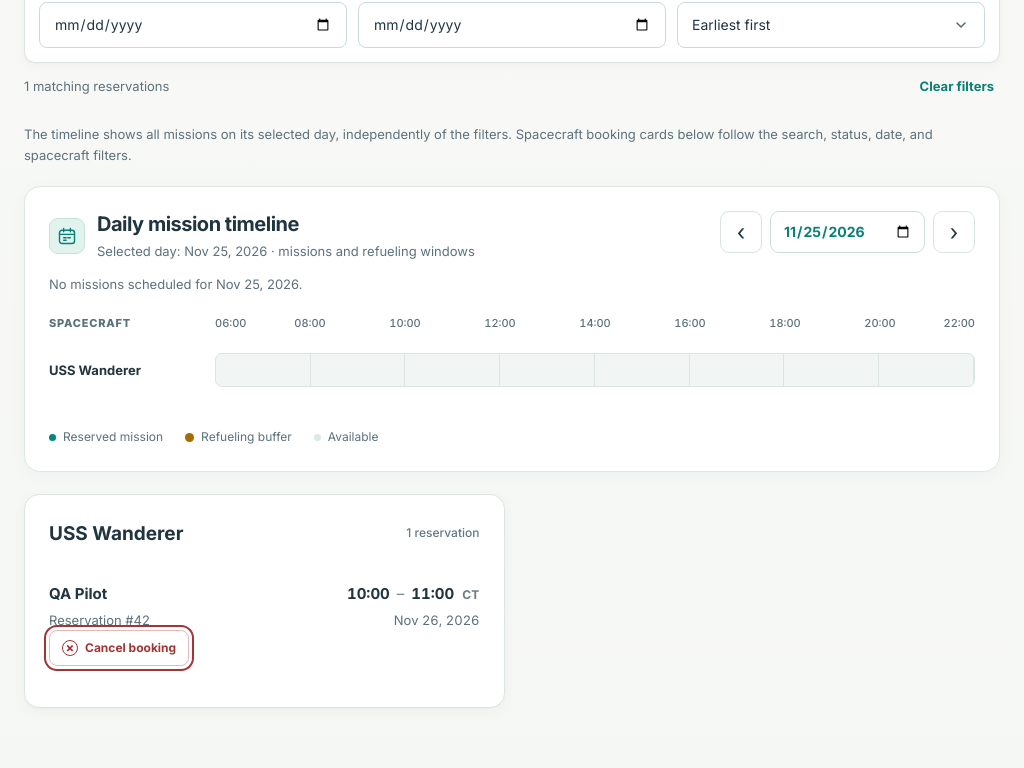
Fleet cancellation › keeps the dialog usable and explains failed cancellation
(page scrolled)
What coordinates should you click on to do the following:
click the button with aria-label "Cancel booking 42 for QA Pilot"
I would click on:
 (119, 648)
Its box is [49,630,189,666].
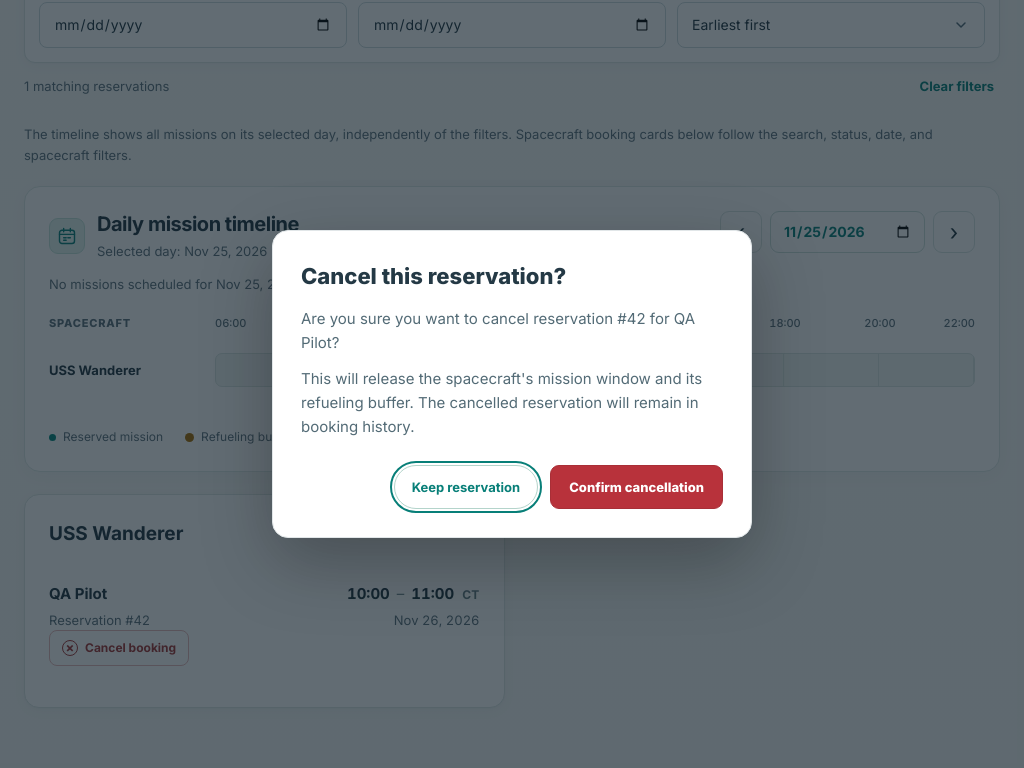
What coordinates should you click on to do the following:
click the button "Confirm cancellation"
I would click on:
 (637, 487)
Its box is [550,465,723,509].
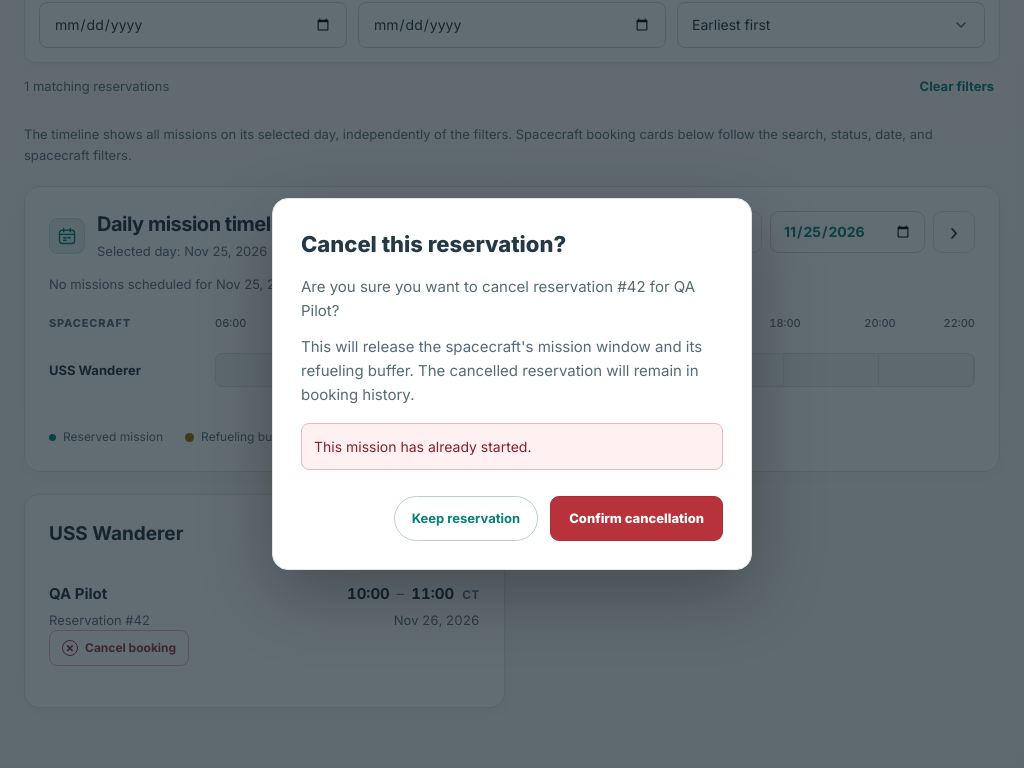
expect the dialog is shown: met, box [272,198,752,570]
expect the button "Keep reservation" is enabled: met, box [394,496,538,541]
expect the text "This mission has already started." is shown: met, box [301,424,723,470]
